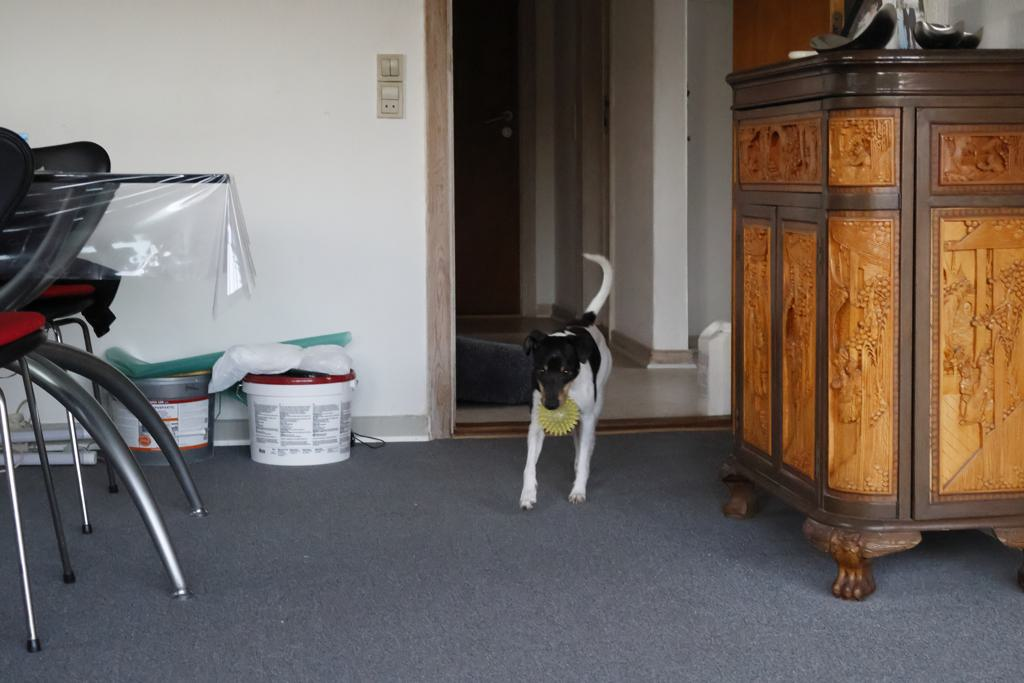Dog: (504, 249, 627, 515)
